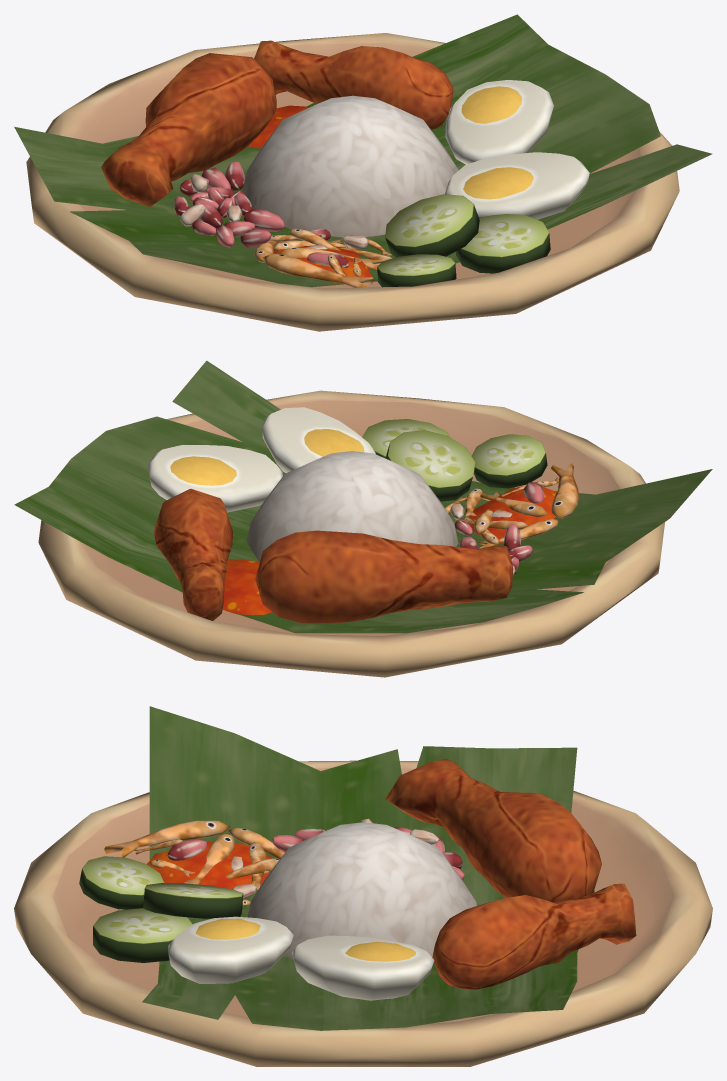
Rendered from nasi_lemak.glb.
3 renders of one model, top to bottom at view 1: azimuth 30°, elevation 25°; view 2: azimuth 150°, elevation 25°; view 3: azimuth 270°, elevation 25°, orthographic. The views are drawn at different scales.
Parts seen in each view (by area): view 1: SM_NasiLemak; view 2: SM_NasiLemak; view 3: SM_NasiLemak.
Part boxes in pixels (x1,y1,x2,y2): SM_NasiLemak: (14,14,712,331); SM_NasiLemak: (14,360,712,677); SM_NasiLemak: (14,706,712,1066).
Size of the model in its own units: 1 by 0.175 by 1.
Materials: 1 (1 with a texture image).
